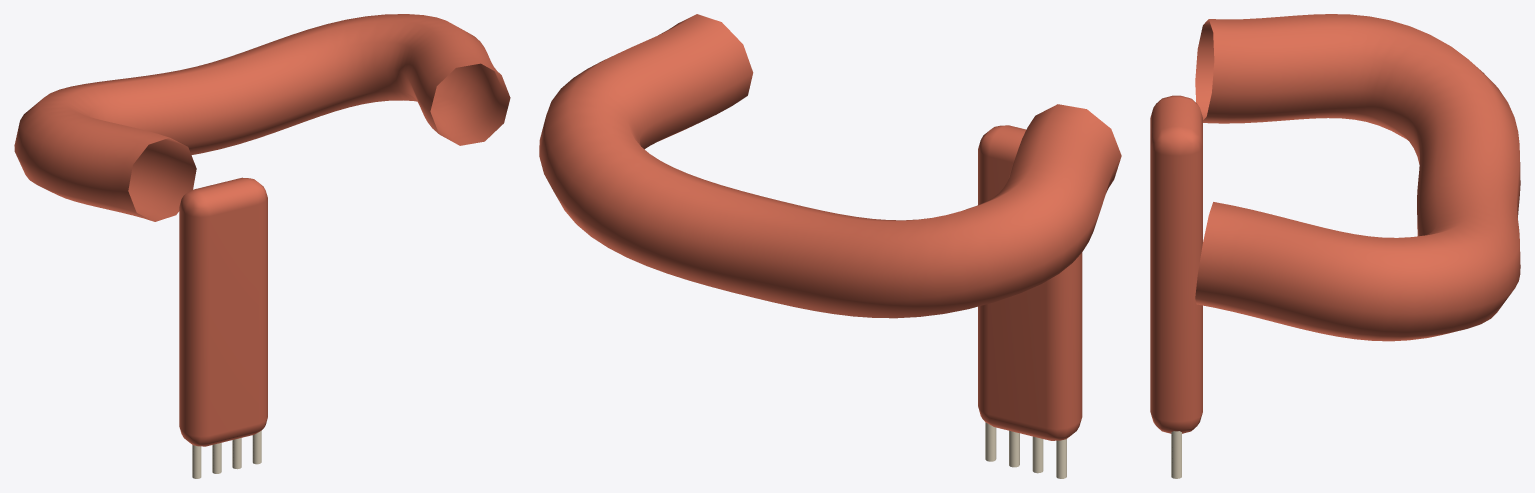
Rendered from NeighborCoralScarf.fbx.
The picture shows the model from 3 angles, left to right: view 1: azimuth 30°, elevation 25°; view 2: azimuth 150°, elevation 25°; view 3: azimuth 270°, elevation 25°; orthographic projection. The views are drawn at different scales.
Parts seen in each view (by area): view 1: KnittedScarfCollar, ScarfFold; view 2: KnittedScarfCollar, ScarfFold; view 3: KnittedScarfCollar, ScarfFold, ScarfFringe.
Boxes of the visible parts, x1,y1,x2,y2 form: KnittedScarfCollar: [14, 14, 510, 221]; ScarfFold: [179, 177, 267, 446]; KnittedScarfCollar: [539, 14, 1121, 318]; ScarfFold: [978, 125, 1082, 440]; KnittedScarfCollar: [1195, 14, 1520, 341]; ScarfFold: [1150, 95, 1202, 433]; ScarfFringe: [1171, 431, 1181, 478].
Size of the model in its own units: 33.35 by 23.64 by 19.75.
